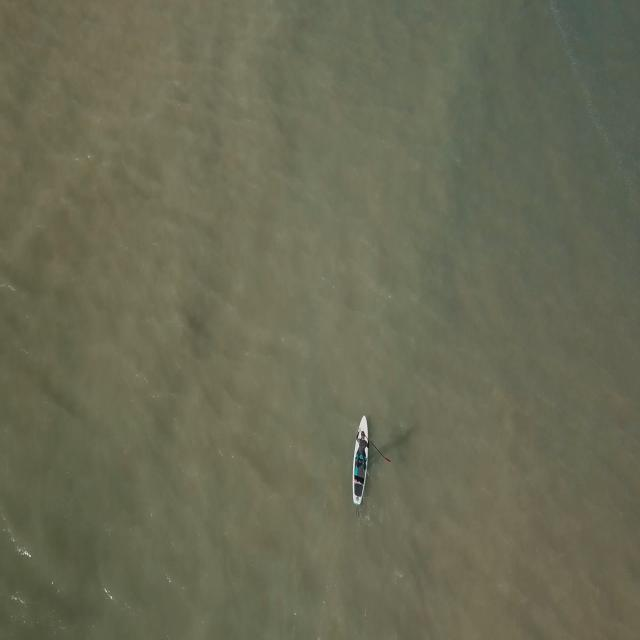vehicle: (352, 414, 390, 506), (356, 428, 369, 471)
